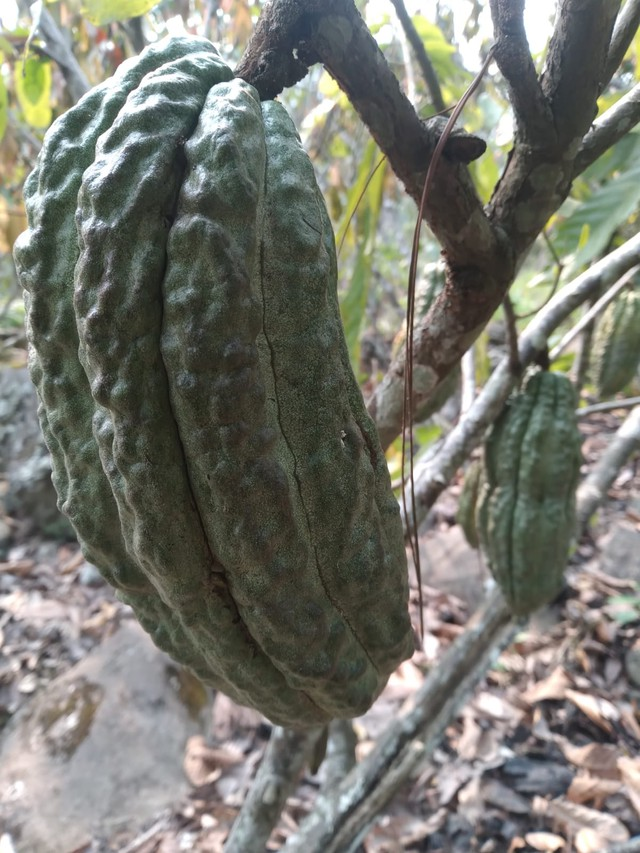Health: (12, 27, 428, 732)
